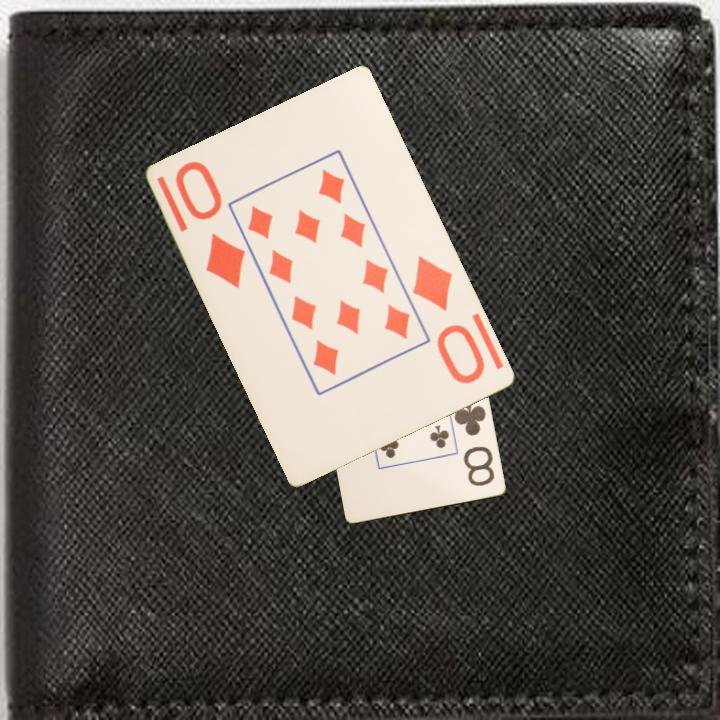10d: (409, 251, 489, 388), (171, 157, 249, 292)
8c: (451, 395, 498, 489)
